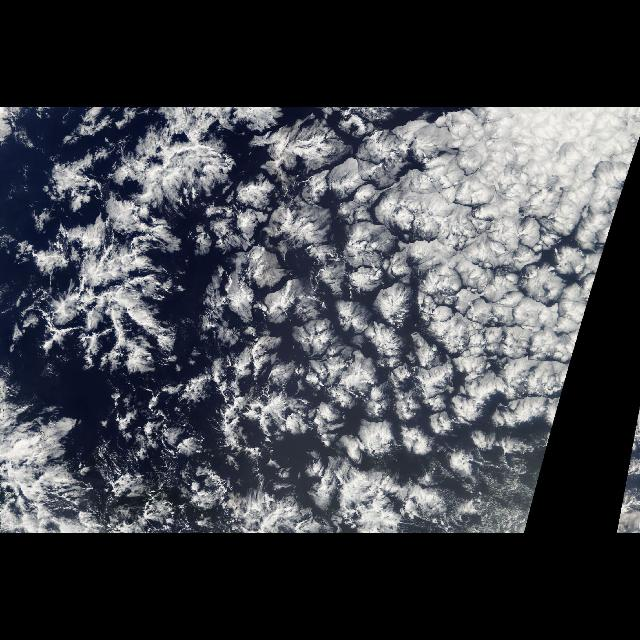Flower: (189, 185, 455, 457)
